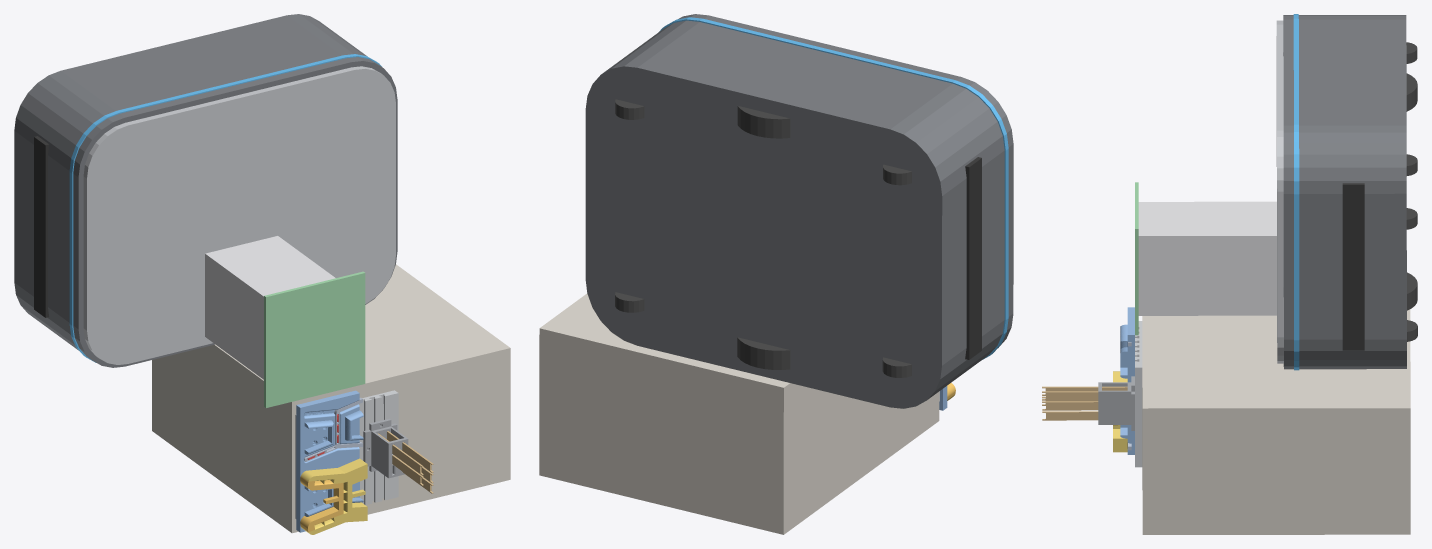
File: cell_v8x2.glb
The picture shows the model from 3 angles, left to right: view 1: azimuth 30°, elevation 25°; view 2: azimuth 150°, elevation 25°; view 3: azimuth 270°, elevation 25°; orthographic projection. The views are drawn at different scales.
Visible parts, largest first — view 1: AMR LD-250 cover, Table, AMR LD-250 body, AMR plate, AMR top module, Base A, T-slot plate, AMR LD-250 band, AMR LD-250 light, Guide big, Plank rack, Base B (+1 smaller); view 2: AMR LD-250 body, Table, AMR LD-250 wheels, AMR LD-250 band, AMR LD-250 light; view 3: Table, AMR LD-250 body, AMR top module, AMR LD-250 band, AMR LD-250 cover, AMR LD-250 light, AMR LD-250 wheels, Plank rack, T-slot plate, Base A, AMR plate, plank3 (+4 smaller).
Part boxes in pixels (x1,y1,x2,y2): AMR LD-250 cover: [83, 66, 395, 364]; Table: [152, 264, 510, 533]; AMR LD-250 body: [14, 14, 397, 367]; AMR plate: [264, 271, 365, 407]; AMR top module: [205, 236, 335, 379]; Base A: [296, 390, 363, 470]; T-slot plate: [295, 390, 398, 518]; AMR LD-250 band: [34, 136, 48, 317]; AMR LD-250 light: [69, 54, 381, 362]; Guide big: [301, 458, 367, 534]; Plank rack: [363, 418, 408, 478]; Base B: [296, 456, 363, 532]; AMR LD-250 body: [585, 14, 1013, 408]; Table: [539, 293, 939, 534]; AMR LD-250 wheels: [615, 99, 911, 377]; AMR LD-250 band: [965, 157, 981, 359]; AMR LD-250 light: [659, 17, 1008, 359]; Table: [1142, 309, 1410, 534]; AMR LD-250 body: [1283, 15, 1406, 369]; AMR top module: [1138, 201, 1276, 315]; AMR LD-250 band: [1342, 183, 1364, 350]; AMR LD-250 cover: [1276, 20, 1283, 363]; AMR LD-250 light: [1293, 14, 1299, 370]; AMR LD-250 wheels: [1406, 42, 1417, 341]; Plank rack: [1098, 376, 1134, 430]; T-slot plate: [1135, 321, 1142, 467]; Base A: [1120, 307, 1134, 382]; AMR plate: [1135, 182, 1138, 335]; plank3: [1042, 391, 1098, 400].
Bounding box in the file's own units: 1090 × 1112 × 1023.
